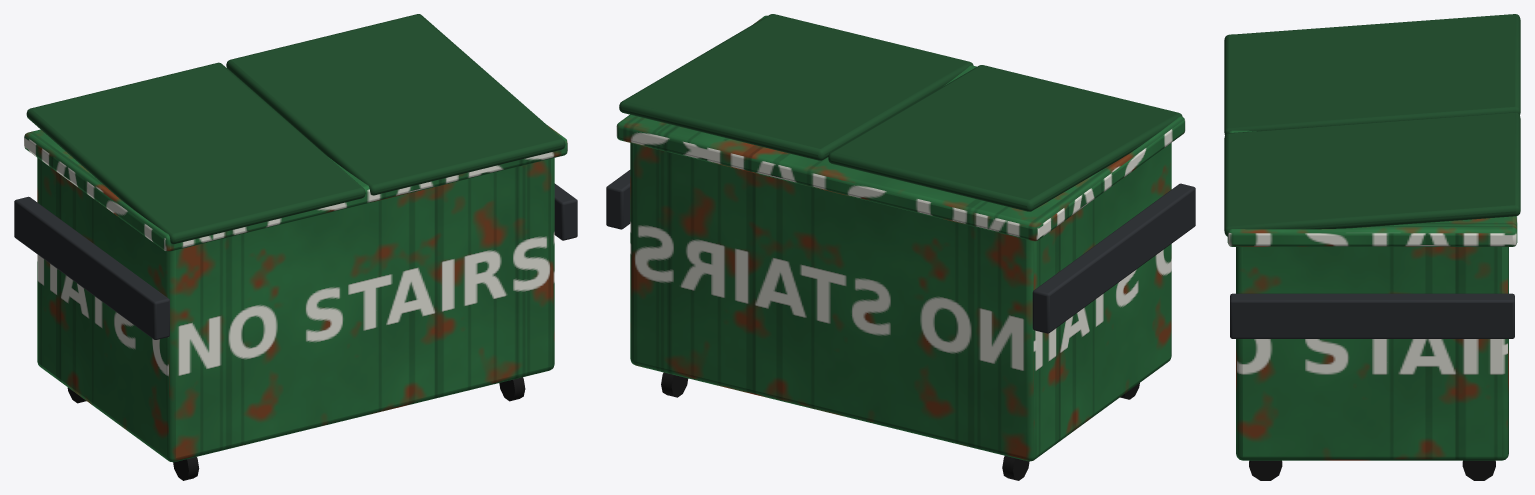
The model's file is dumpster.glb.
3 renders of one model, left to right at view 1: azimuth 30°, elevation 25°; view 2: azimuth 150°, elevation 25°; view 3: azimuth 270°, elevation 25°, orthographic. The views are drawn at different scales.
Visible parts, largest first — view 1: dumpster; view 2: dumpster; view 3: dumpster.
Part boxes in pixels (<box>): dumpster: <box>14,14,577,480</box>; dumpster: <box>606,14,1195,480</box>; dumpster: <box>1224,14,1520,480</box>.
Size of the model in its own units: 2.08 by 1.34 by 1.25.
Materials: 4 (1 with a texture image).
